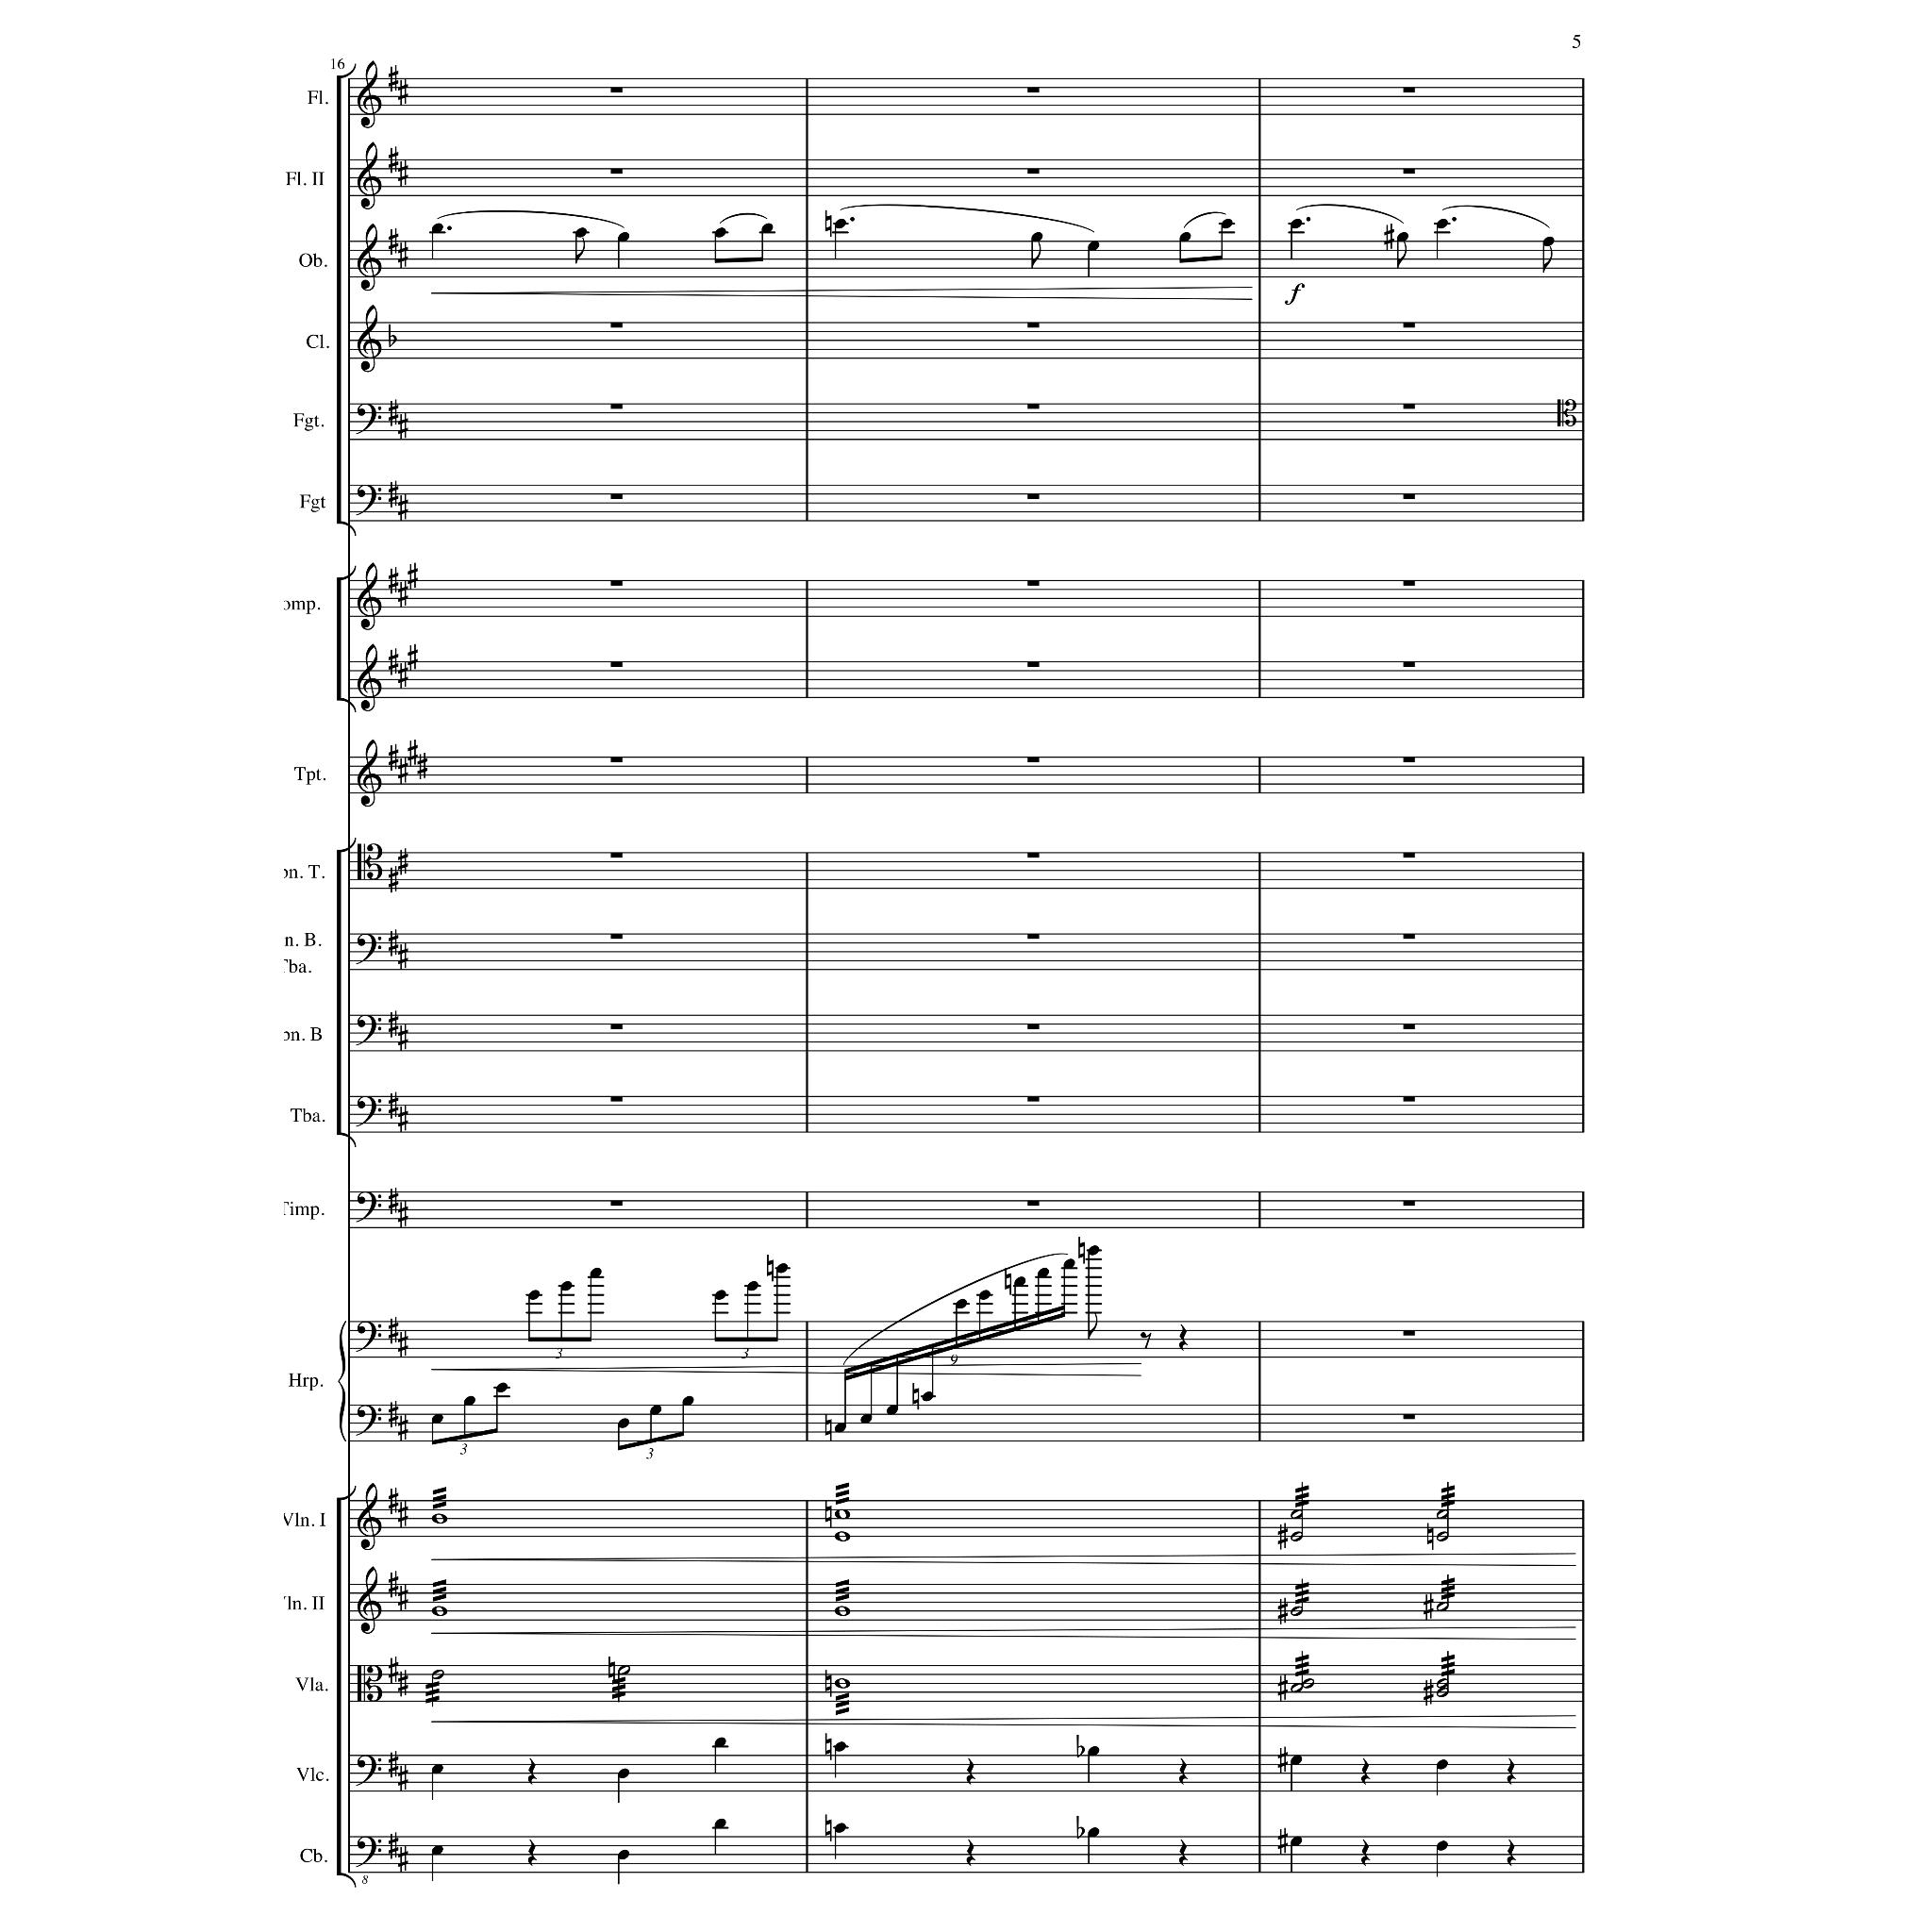brace: (338, 1320, 345, 1442)
fClef: (354, 1405, 380, 1437), (354, 1755, 380, 1787), (354, 1014, 380, 1046), (354, 1095, 380, 1127), (354, 1191, 380, 1223), (354, 402, 380, 433), (354, 1836, 380, 1867), (354, 934, 380, 964), (354, 1322, 380, 1352), (354, 485, 380, 515)
flag8thDown: (1543, 246, 1553, 272), (575, 237, 586, 264), (1031, 241, 1040, 267), (1088, 1313, 1097, 1339), (1398, 241, 1407, 267)
gClef: (357, 1566, 380, 1635), (357, 738, 380, 807), (357, 1483, 380, 1550), (357, 60, 380, 127), (357, 142, 380, 209), (357, 223, 380, 290), (357, 304, 380, 372), (357, 563, 380, 630), (357, 644, 380, 711)
noteheadBlack: (1290, 218, 1302, 228), (1221, 218, 1233, 228), (1290, 1755, 1302, 1766), (1290, 1836, 1302, 1847), (1014, 1276, 1026, 1286), (860, 1414, 872, 1424), (886, 1405, 899, 1415), (922, 1391, 934, 1401), (955, 1299, 968, 1309), (1178, 232, 1191, 242), (1037, 1267, 1049, 1277), (1063, 1258, 1076, 1269), (1396, 232, 1408, 242), (1435, 218, 1447, 228), (1435, 1759, 1447, 1769), (1435, 1840, 1447, 1851), (495, 1382, 508, 1392), (833, 218, 846, 228), (833, 1422, 846, 1433), (833, 1741, 846, 1752), (833, 1822, 846, 1833), (649, 1405, 662, 1415), (681, 1396, 694, 1407), (559, 1281, 571, 1292), (575, 226, 587, 237), (589, 1267, 602, 1277), (617, 232, 630, 242), (617, 1419, 630, 1430), (617, 1767, 630, 1778), (617, 1849, 630, 1859), (745, 1281, 757, 1292), (713, 226, 725, 237), (713, 1737, 725, 1748), (713, 1819, 725, 1829), (1031, 232, 1042, 242), (1088, 241, 1099, 251), (1088, 1746, 1099, 1757), (1543, 235, 1553, 246), (464, 1396, 474, 1407), (432, 1414, 442, 1424), (432, 1764, 442, 1775), (432, 1845, 442, 1856), (777, 1263, 787, 1274), (978, 1290, 991, 1299), (527, 1290, 540, 1299), (761, 223, 773, 232), (713, 1290, 725, 1299), (1088, 1246, 1099, 1254), (1088, 1828, 1099, 1836), (432, 223, 442, 232)
noteheadHalf: (1290, 1606, 1302, 1617), (1290, 1530, 1302, 1541), (1290, 1509, 1302, 1520), (1290, 1683, 1302, 1693), (1302, 1677, 1315, 1688), (1437, 1530, 1449, 1541), (1437, 1509, 1449, 1520), (1437, 1601, 1449, 1612), (1437, 1677, 1449, 1688), (617, 1665, 630, 1675), (1437, 1688, 1449, 1697), (432, 1670, 444, 1679)
noteheadWhole: (432, 1606, 448, 1617), (833, 1509, 849, 1520), (833, 1606, 849, 1617), (833, 1677, 849, 1688), (833, 1532, 849, 1543), (432, 1514, 448, 1523)
rest8th: (1141, 1332, 1152, 1350)
restQuarter: (966, 1757, 975, 1785), (966, 1838, 975, 1867), (1178, 1323, 1187, 1352), (1178, 1757, 1187, 1785), (1178, 1838, 1187, 1867), (1361, 1757, 1369, 1785), (1361, 1838, 1369, 1867), (1507, 1757, 1516, 1785), (1507, 1838, 1516, 1867), (527, 1757, 536, 1785), (527, 1838, 536, 1867)
restWhole: (1026, 579, 1039, 586), (1026, 932, 1039, 939), (1026, 851, 1039, 858), (610, 579, 623, 586), (610, 851, 623, 858), (610, 932, 623, 939), (1403, 579, 1415, 586), (1403, 851, 1415, 858), (1403, 932, 1415, 939), (1026, 494, 1039, 499), (1026, 403, 1039, 409), (1026, 322, 1039, 327), (1026, 168, 1039, 173), (1026, 87, 1039, 92), (1026, 662, 1039, 667), (1026, 1200, 1039, 1205), (1026, 1097, 1039, 1102), (1026, 1024, 1039, 1030), (1026, 757, 1039, 763), (610, 87, 623, 92), (1403, 87, 1415, 92), (610, 168, 623, 173), (610, 322, 623, 327), (610, 403, 623, 409), (610, 494, 623, 499), (610, 662, 623, 667), (610, 757, 623, 763), (610, 1024, 623, 1030), (610, 1097, 623, 1102), (610, 1200, 623, 1205), (1403, 168, 1415, 173), (1403, 322, 1415, 327), (1403, 403, 1415, 409), (1403, 494, 1415, 499), (1403, 662, 1415, 667), (1403, 757, 1415, 763), (1403, 1024, 1415, 1030), (1403, 1097, 1415, 1102), (1403, 1200, 1415, 1205), (1403, 1330, 1415, 1336), (1403, 1414, 1415, 1419)
